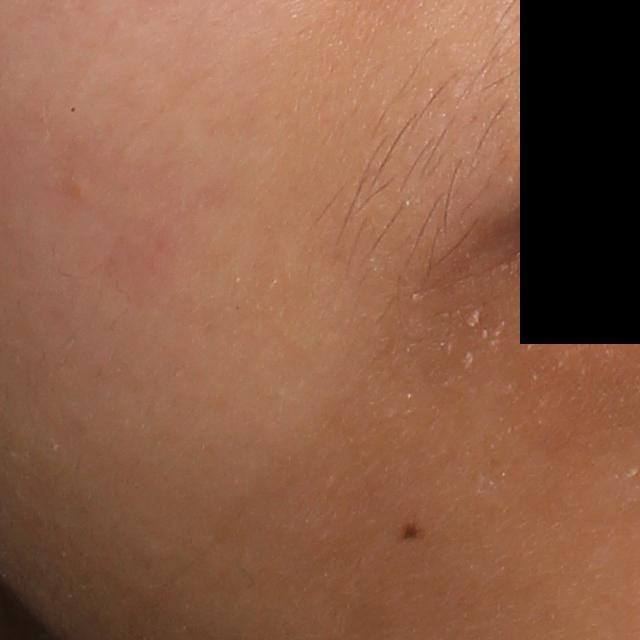comedo: (67, 175, 91, 199)
nevus: (398, 511, 425, 544)
